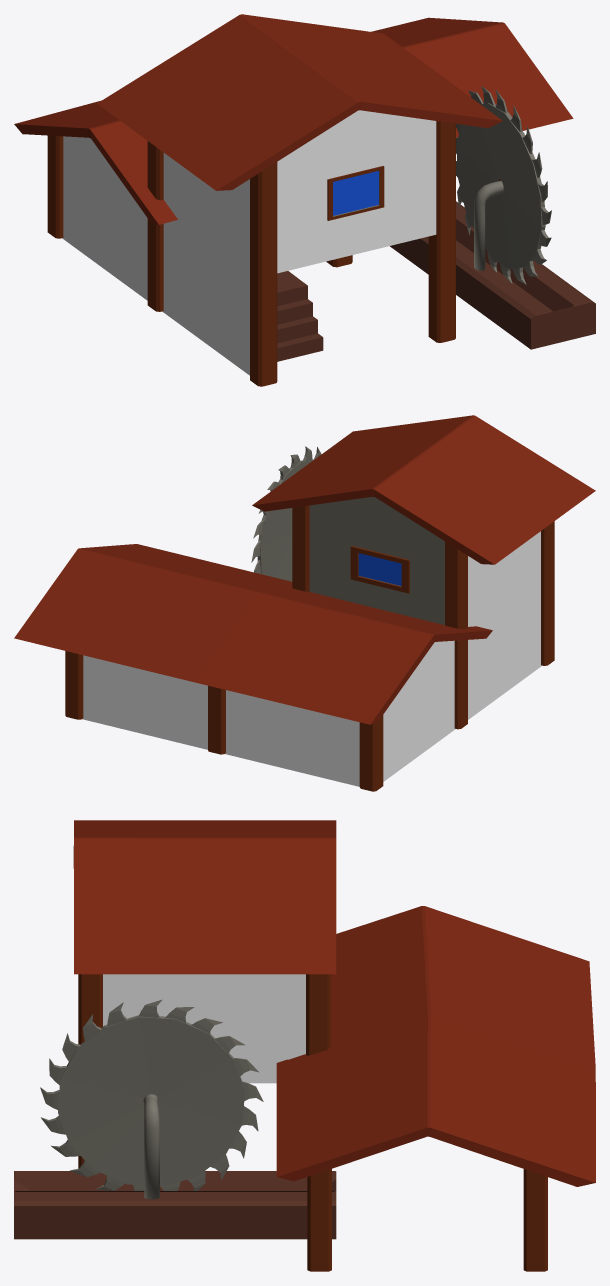
Rendered from Madeireira.fbx.
3 views of the same model, one above another, from view 1: azimuth 30°, elevation 25°; view 2: azimuth 150°, elevation 25°; view 3: azimuth 270°, elevation 25° (orthographic). The views are drawn at different scales.
Parts seen in each view (by area): view 1: Cube.028; view 2: Cube.028; view 3: Cube.028.
Part boxes in pixels (x1,y1,x2,y2): Cube.028: (14, 14, 595, 386); Cube.028: (14, 415, 595, 791); Cube.028: (14, 820, 595, 1271).
Size of the model in its own units: 1265 by 711 by 1289.
